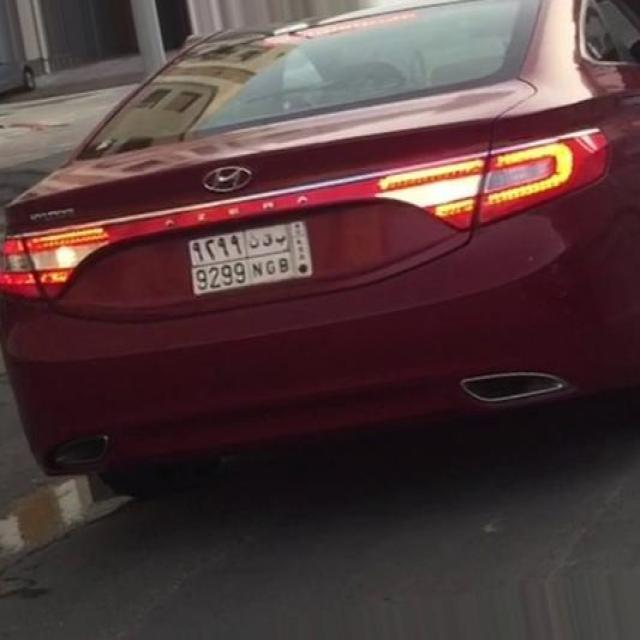Car-plate: (168, 214, 324, 316)
